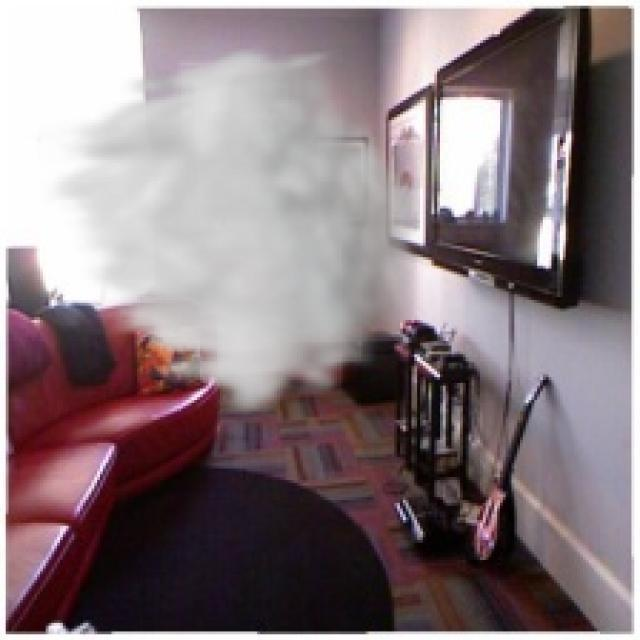Smoke: (37, 43, 426, 420)
